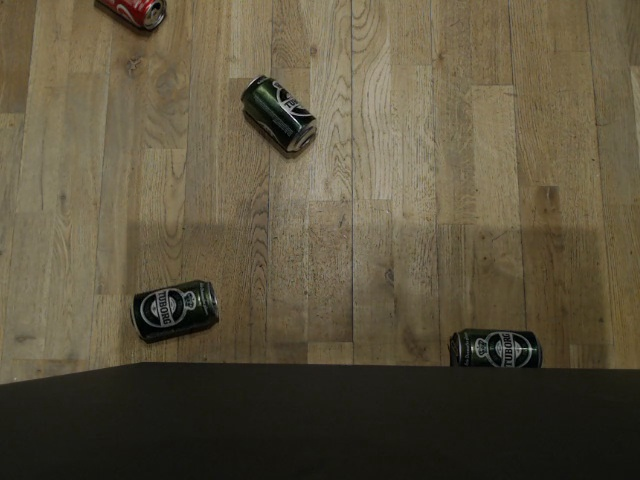coke: (357, 162, 409, 241)
